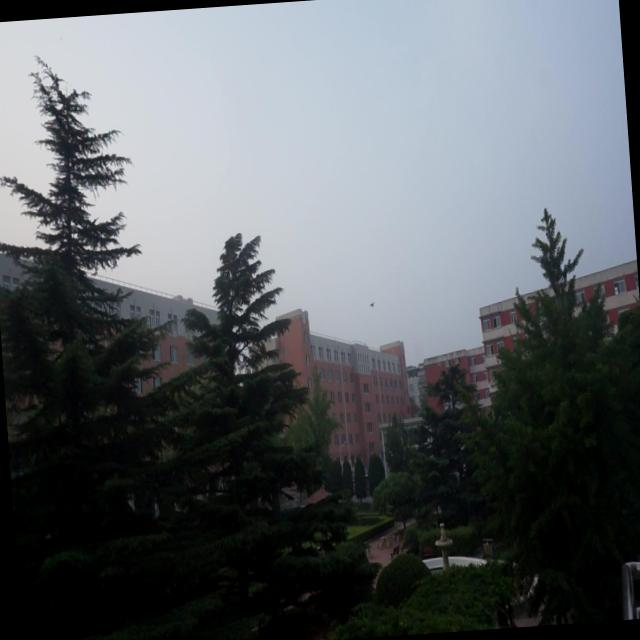drone: (368, 296, 377, 314)
